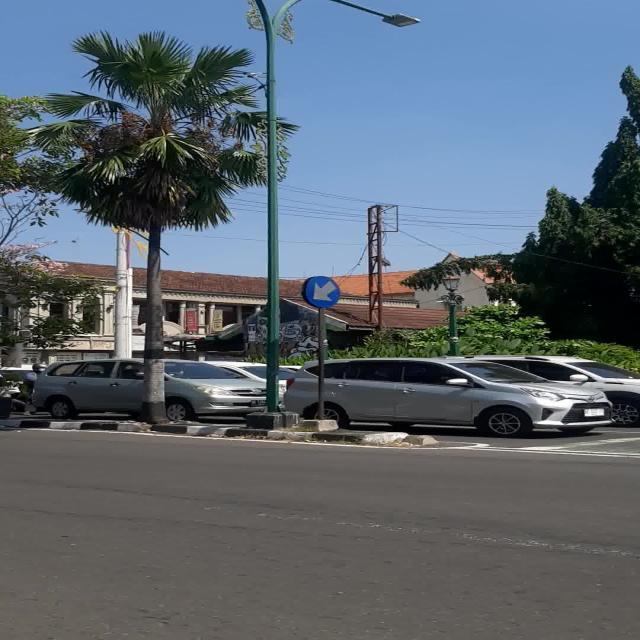Lajur Kiri: (306, 276, 340, 308)
